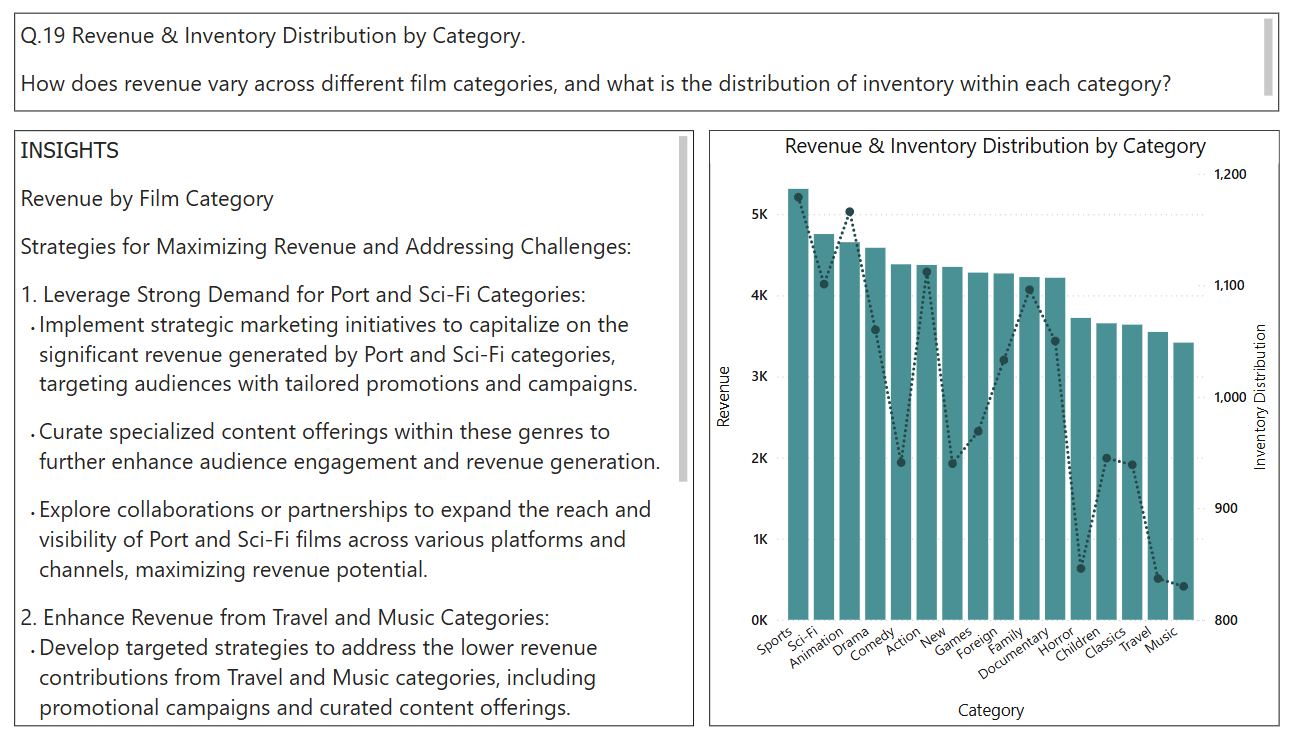

What the dashboard file says about the page in this screenshot:
{"tool":"powerbi","page":{"name":"Q19","canvas":[1280,720],"ordinal":24},"visuals":[{"type":"textbox","box":[20.9,18.6,1220.9,95.3],"z":0},{"type":"textbox","box":[20.9,131.4,655.8,575.6],"z":1000},{"type":"lineStackedColumnComboChart","title":"Revenue & Inventory Distribution by Category","fields":{"Y":["payment.Revenue"],"Y2":["CountNonNull(rentat.inventory_id)"],"Category":["category.name"]},"box":[691.3,131.5,550.1,575.5],"z":2000}]}

Visuals, with their boxes in screenshot pixels (x1, y1, x2, y2), scaled from the page's 1280x720 canvas onto the 1300x737 screenshot:
textbox: (21,19,1261,117)
textbox: (21,135,687,724)
"Revenue & Inventory Distribution by Category" lineStackedColumnComboChart: (702,135,1261,724)
